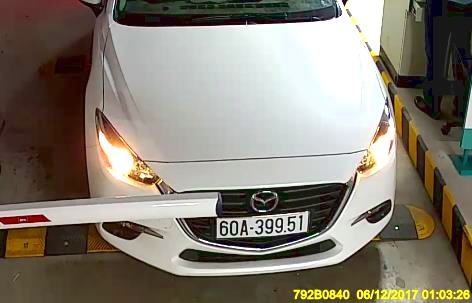plate: (215, 208, 312, 239)
